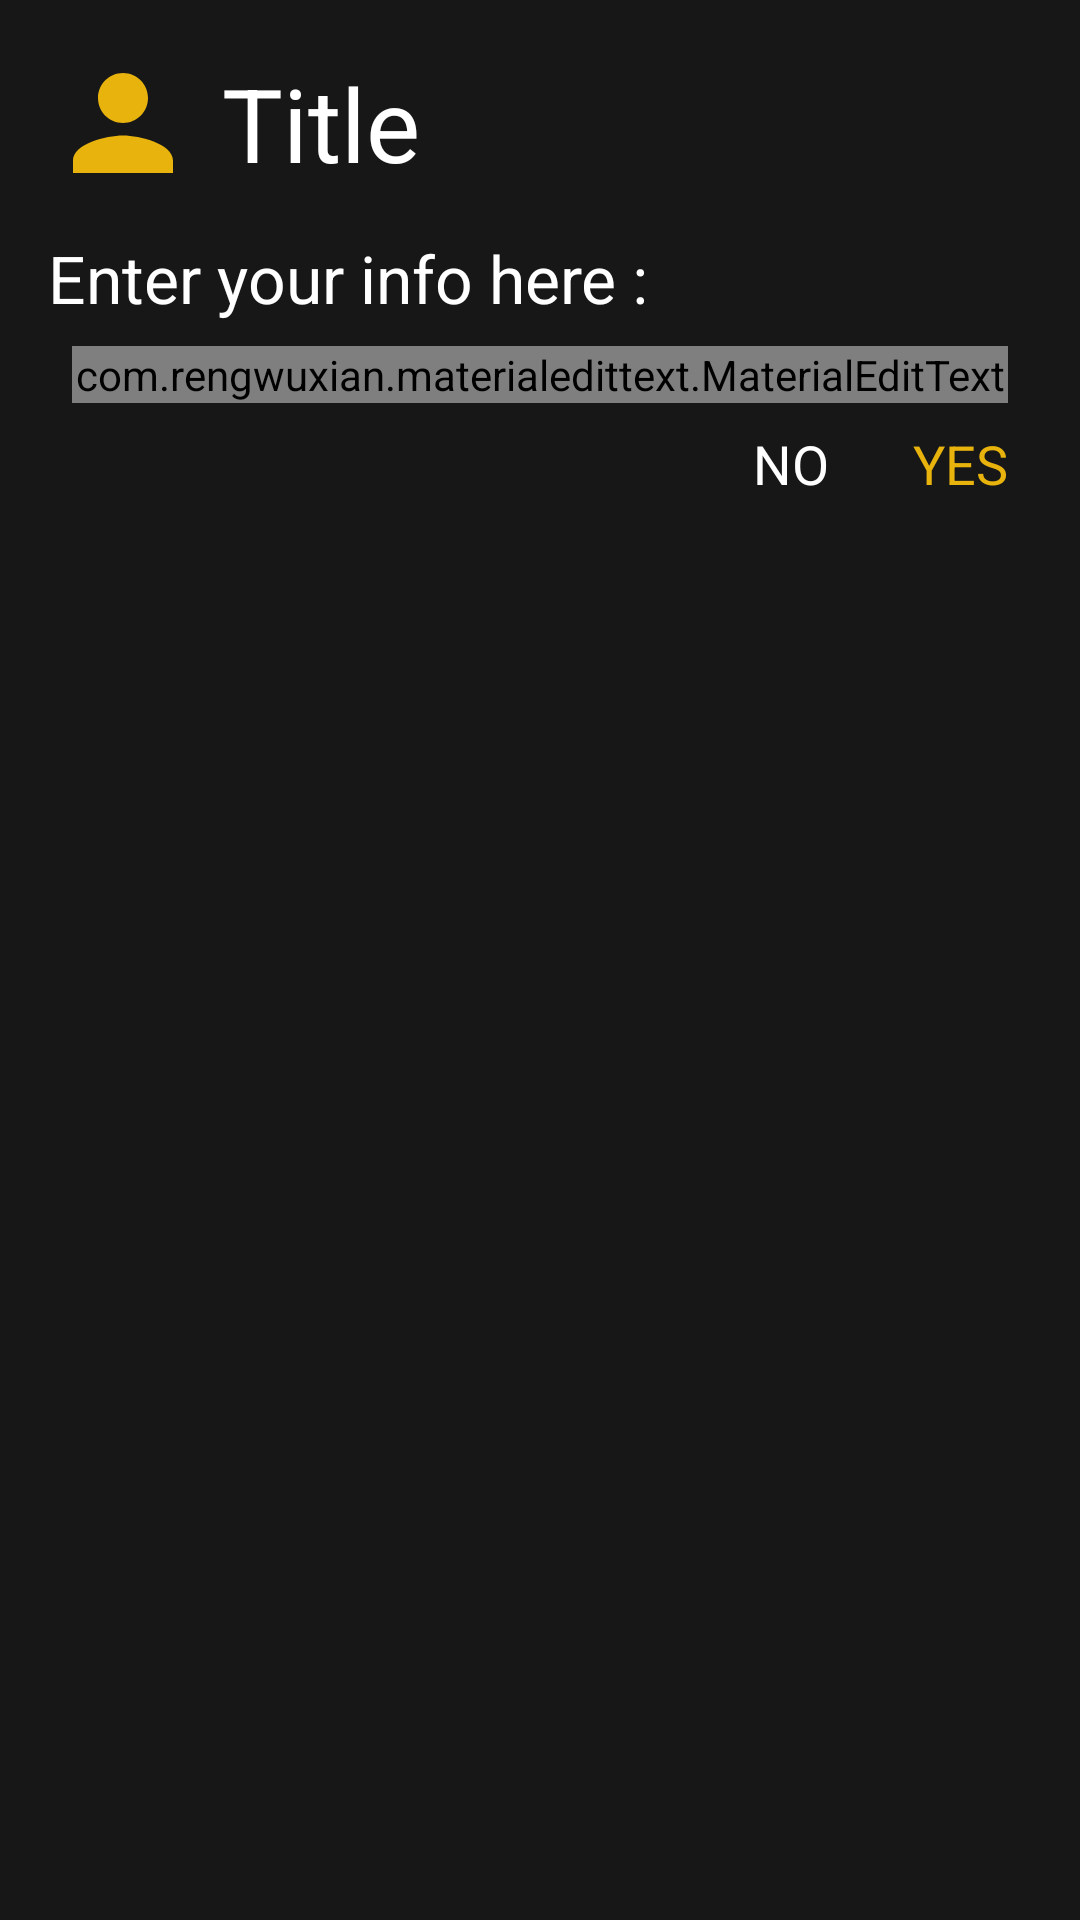

Named icons in this screenshot (1080*1920) and their centers, point (x, y):
person yallow: point (123, 123)
